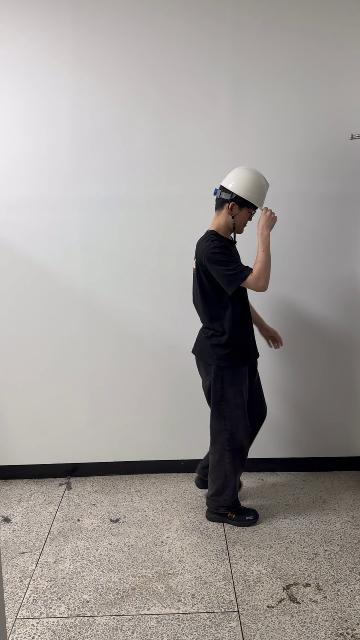helmet_worn: (216, 167, 270, 211)
shoe_worn: (205, 504, 258, 526)
vest_not_worn: (192, 229, 264, 376)
